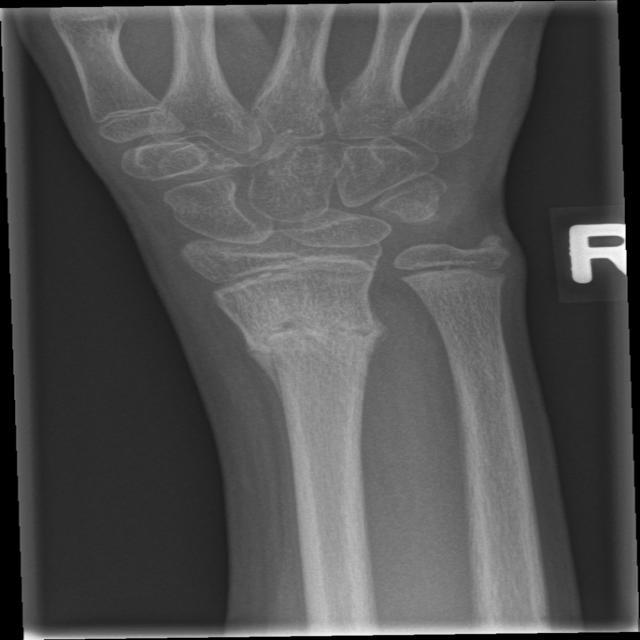radius fracture: (216, 287, 410, 443)
ulna fracture: (456, 230, 520, 374)
